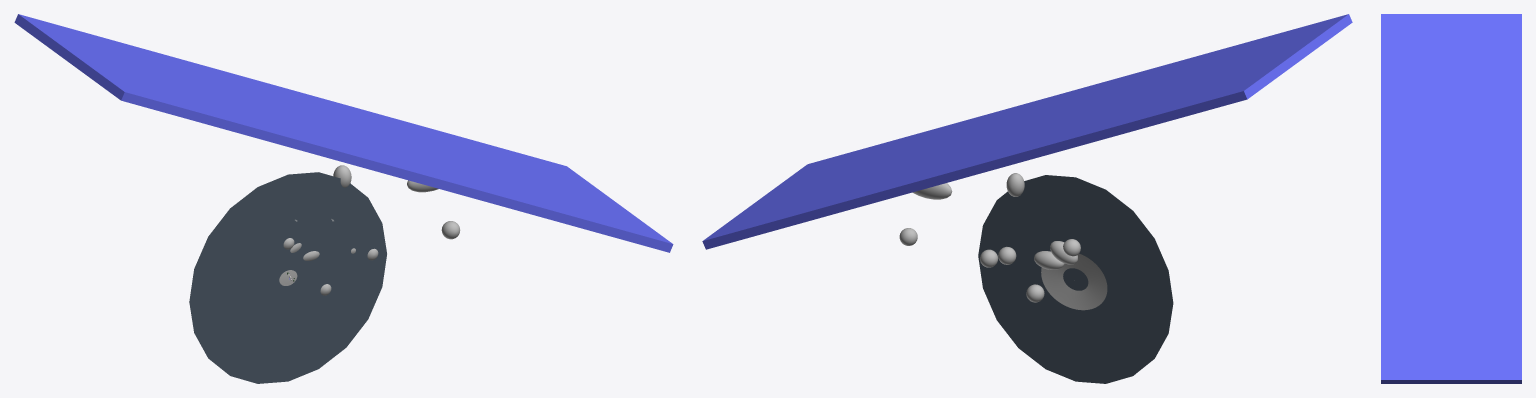
Rendered from snowman.gltf.
3 renders of one model, left to right at view 1: azimuth 30°, elevation 25°; view 2: azimuth 150°, elevation 25°; view 3: azimuth 270°, elevation 25°, orthographic. The views are drawn at different scales.
Parts seen in each view (by area): view 1: bg, ocean2; view 2: bg, ocean2, ground; view 3: bg.
Part boxes in pixels (x1,y1,x2,y2): bg: (14,14,673,252); ocean2: (189,172,386,383); bg: (702,14,1352,249); ocean2: (978,175,1173,383); ground: (1041,253,1107,310); bg: (1381,14,1521,383).
Bounding box in the file's own units: 418 × 278 × 140.
